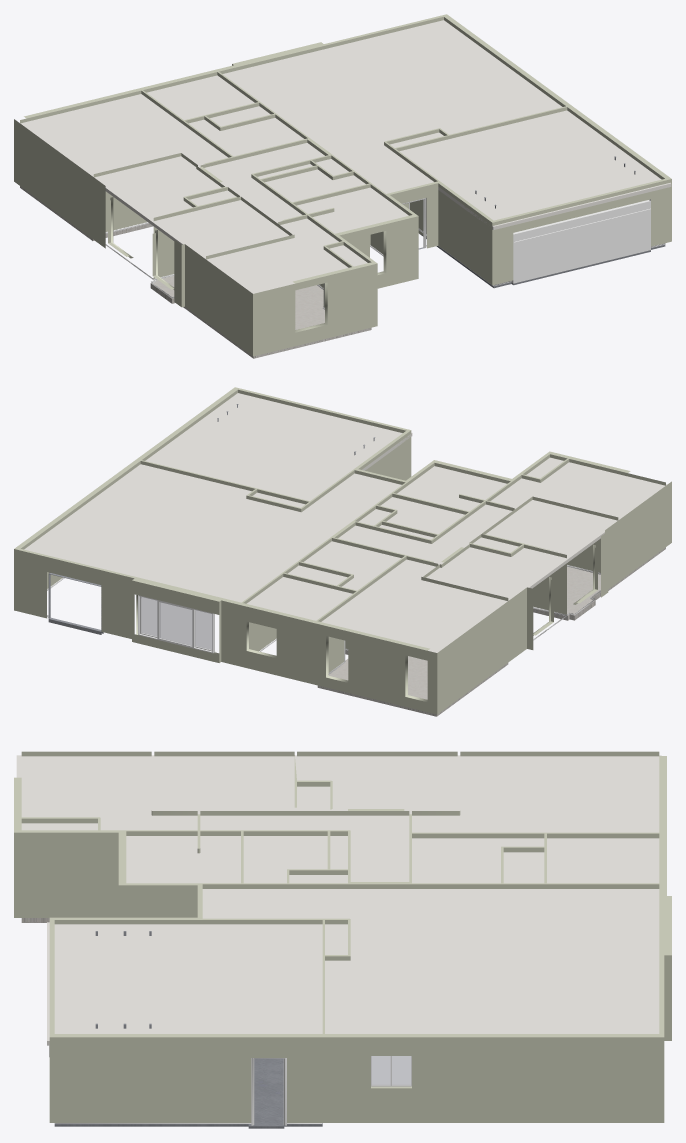
Rendered from KBH_Interior_model1860_MainGeo.glb.
3 renders of one model, top to bottom at view 1: azimuth 30°, elevation 25°; view 2: azimuth 150°, elevation 25°; view 3: azimuth 270°, elevation 25°, orthographic. The views are drawn at different scales.
Visible parts, largest first — view 1: Line18587, Line21685, Line23597, Line18692, Line18695, Line18694, Line18693, Line18696, Line18524; view 2: Line18587, Line21685, Line23596, Line23597, Line18733, Line18731, Line18732, Line18555; view 3: Line18587, Line21685, Line18524, Line18749, Line22268.
Boxes of the visible parts, x1,y1,x2,y2 form: Line18587: [19, 20, 671, 293]; Line21685: [14, 14, 671, 356]; Line23597: [150, 276, 371, 358]; Line18692: [513, 240, 650, 283]; Line18695: [513, 209, 650, 252]; Line18694: [513, 219, 650, 263]; Line18693: [513, 230, 650, 273]; Line18696: [513, 200, 650, 242]; Line18524: [420, 234, 665, 288]; Line18587: [24, 393, 667, 652]; Line21685: [14, 387, 671, 714]; Line23596: [317, 650, 508, 716]; Line23597: [533, 547, 665, 620]; Line18733: [159, 602, 192, 645]; Line18731: [195, 610, 212, 649]; Line18732: [141, 597, 157, 636]; Line18555: [48, 573, 103, 634]; Line18587: [16, 755, 661, 1045]; Line21685: [14, 751, 671, 1122]; Line18524: [54, 1058, 322, 1128]; Line18749: [371, 1056, 410, 1084]; Line22268: [154, 751, 294, 756].
Bounding box in the file's own units: 27.1 × 4 × 25.8.
8 materials, 3 textured.
